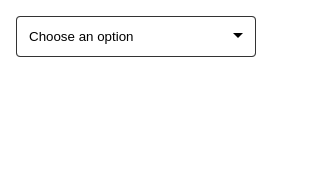
Scenario: should change the selected value when an option is clicked
# Open the dropdown
Click the button "Choose an option" at coordinates (136, 36), box [16,16,256,57]
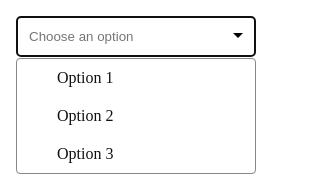
# Select the second option
Click the option "Option 2" at coordinates (85, 116), box [57,107,114,124]
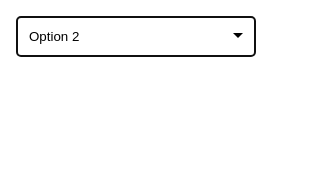
Check: the field holds "Option 2", box [16,16,256,57]
